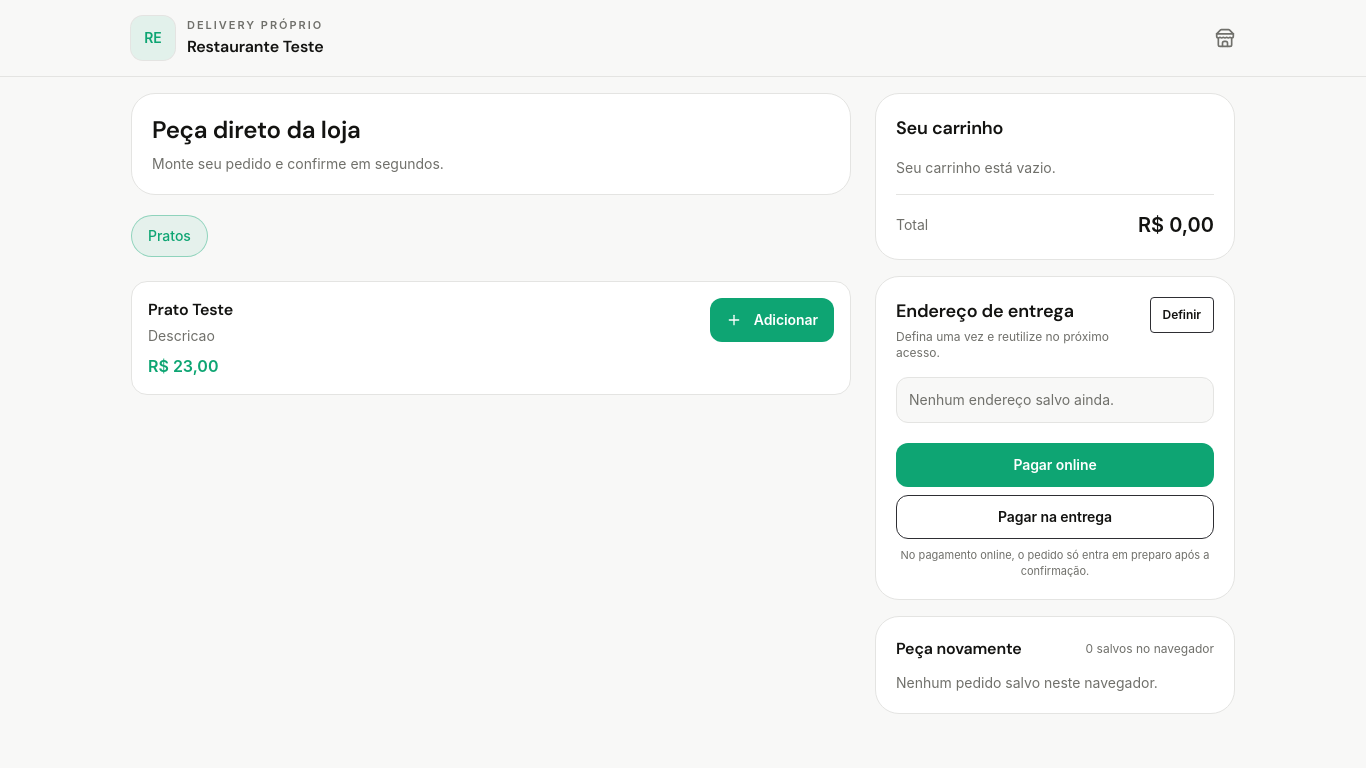
checkout online do delivery › impede o envio de um endereco salvo que nao atende ao contrato da API
Click the button "Adicionar" at [772, 320], box [710,298,834,342]
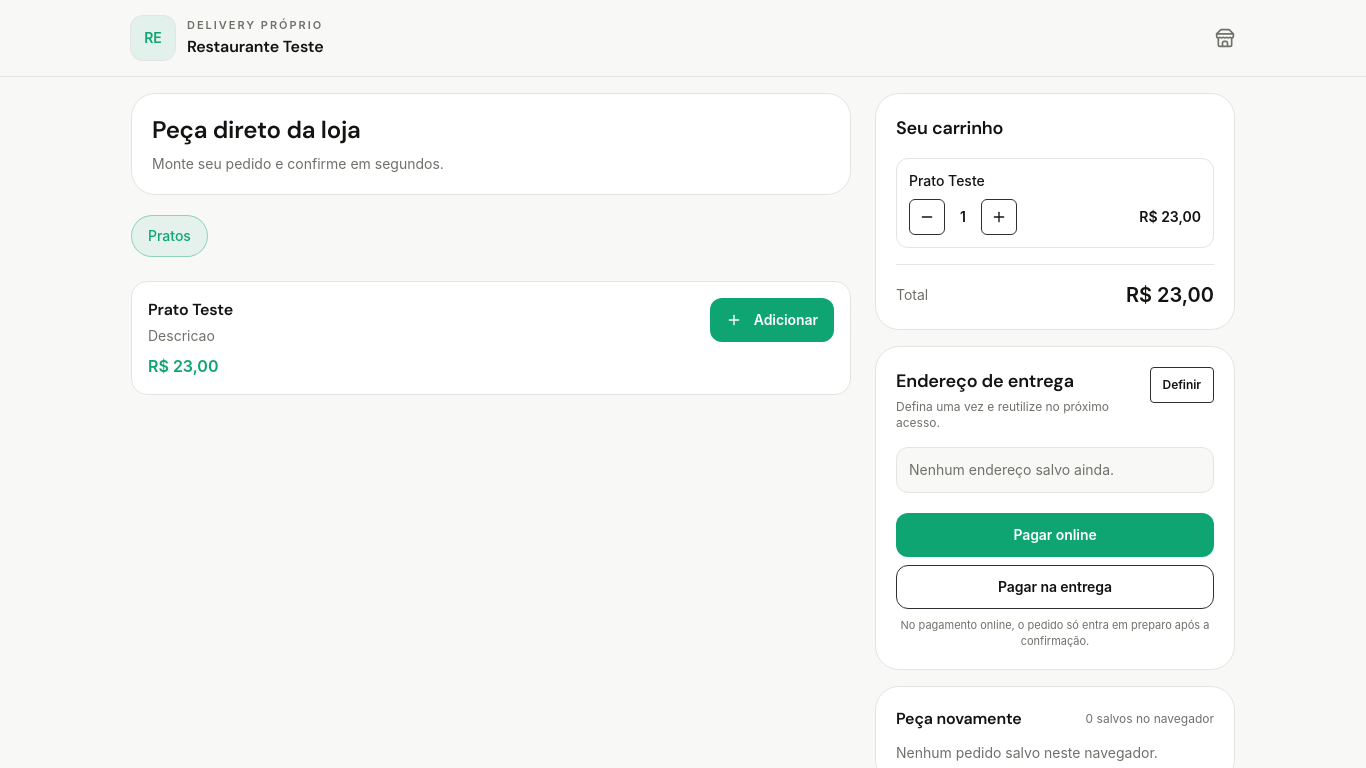
Click the button "Pagar online" at [1055, 535], box [896,513,1214,557]
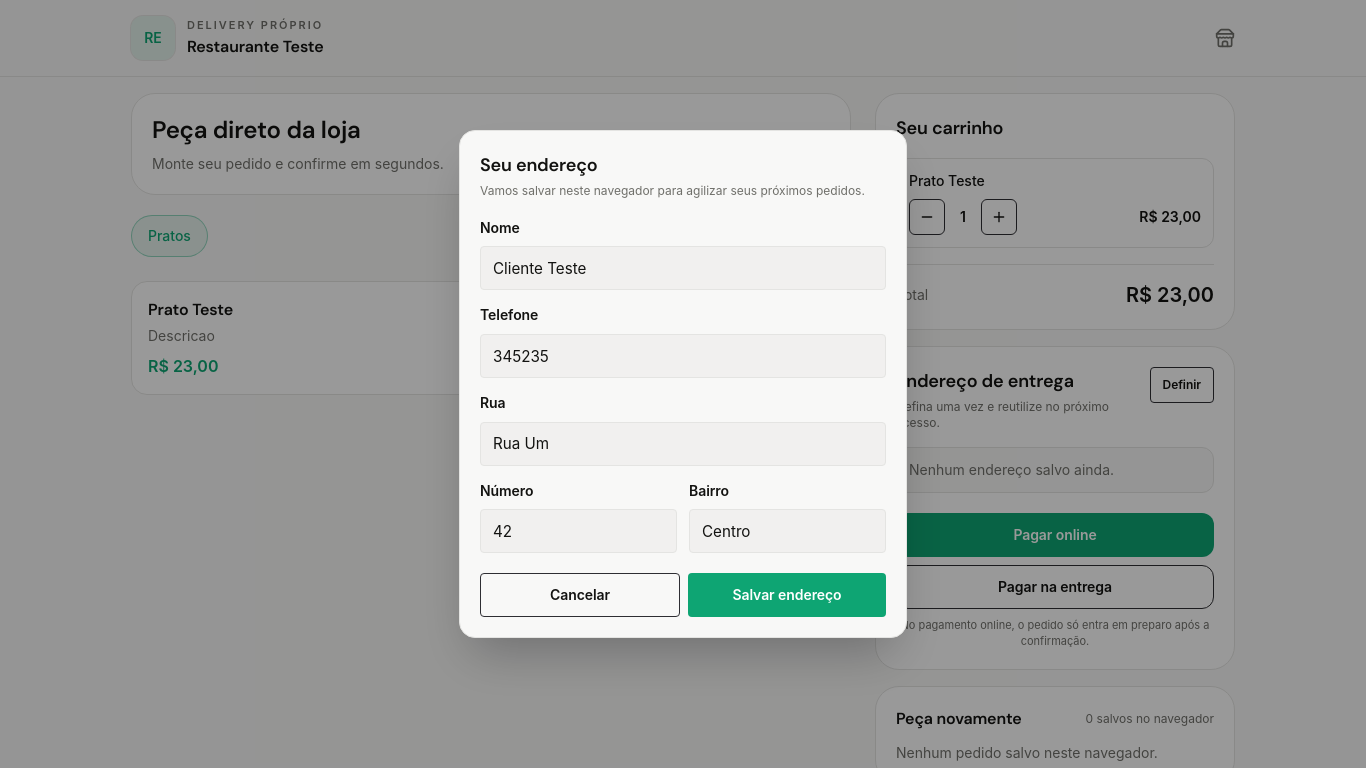
Expected: the field labelled "Telefone" is shown, [480,334,886,378]
